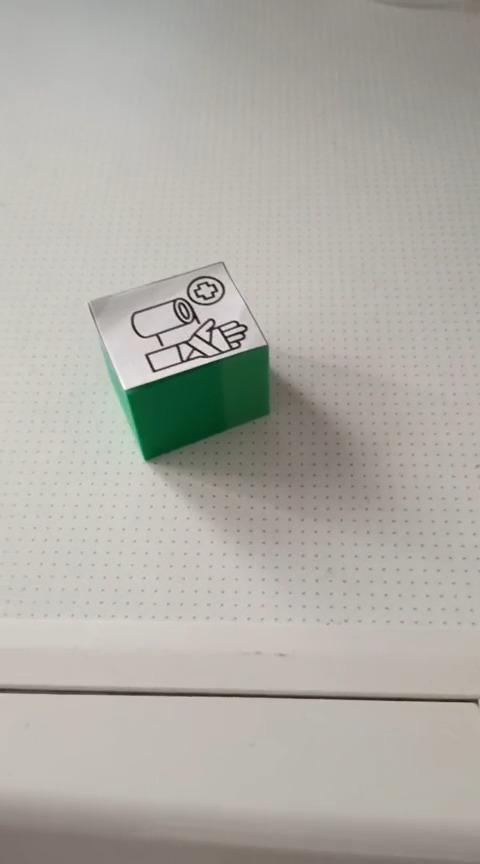Bandages: (90, 261, 268, 460)
